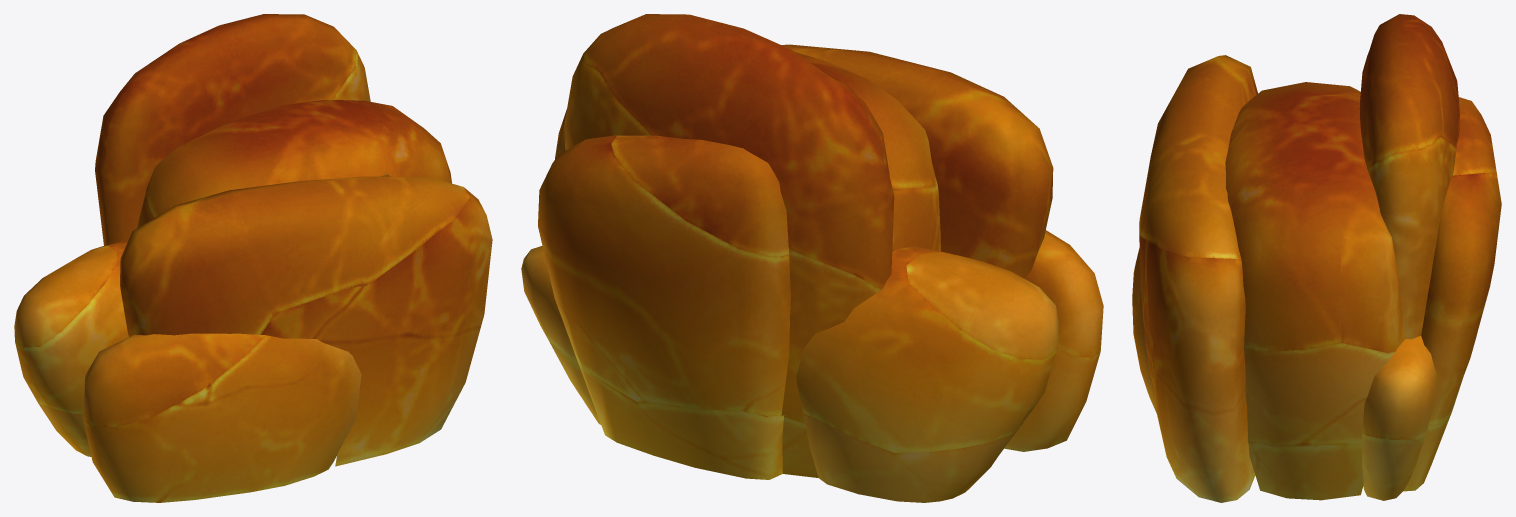
The model's file is Homeworld_Exterior_Common_Stone_Stone_21_Vo.fbx.
3 views of the same model, side by side, from view 1: azimuth 30°, elevation 25°; view 2: azimuth 150°, elevation 25°; view 3: azimuth 270°, elevation 25° (orthographic). The views are drawn at different scales.
Parts seen in each view (by area): view 1: Homeworld_Exterior_Common_Stone_Stone_21_Vo; view 2: Homeworld_Exterior_Common_Stone_Stone_21_Vo; view 3: Homeworld_Exterior_Common_Stone_Stone_21_Vo.
Boxes of the visible parts, x1=… form: Homeworld_Exterior_Common_Stone_Stone_21_Vo: x1=14, y1=14, x2=492, y2=502; Homeworld_Exterior_Common_Stone_Stone_21_Vo: x1=521, y1=14, x2=1103, y2=502; Homeworld_Exterior_Common_Stone_Stone_21_Vo: x1=1132, y1=14, x2=1501, y2=502.
Size of the model in its own units: 2.92 by 2.44 by 2.03.
Materials: 1 (1 with a texture image).
